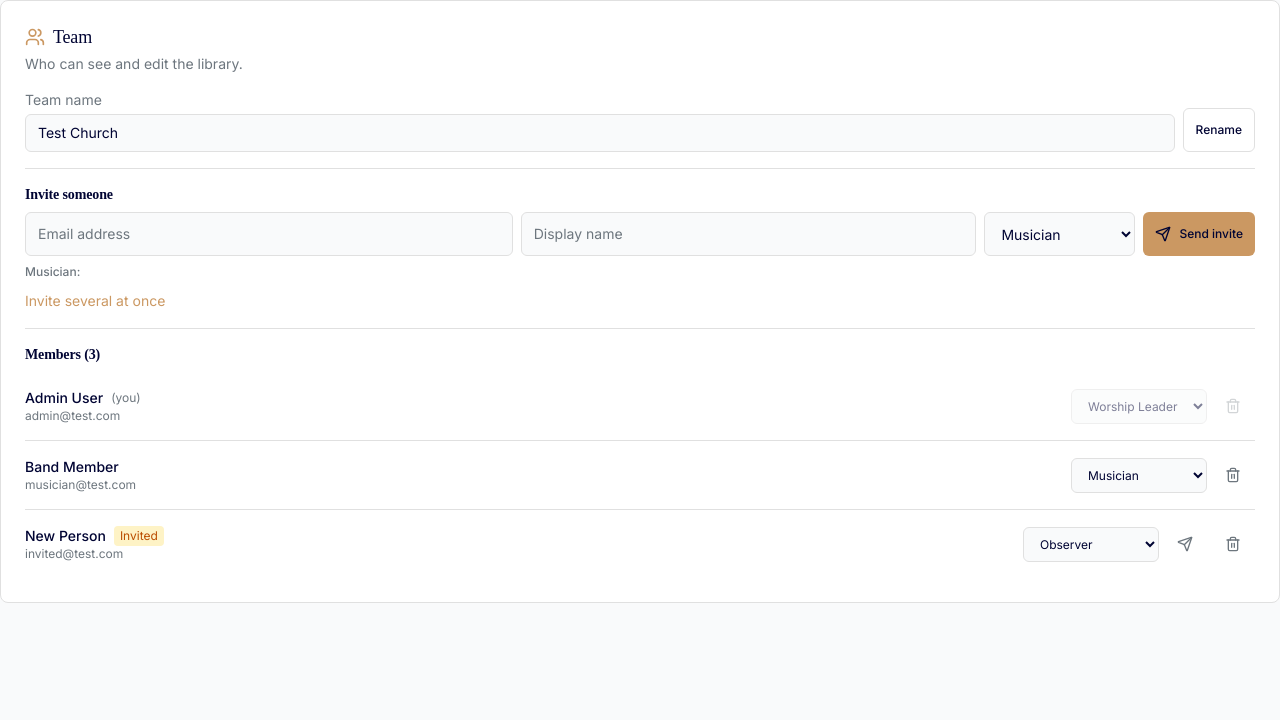
Test case: TeamSection › removes a member after confirmation
Expected: the text "Band Member" is shown, [25,457,119,477]
Expected: the button named "Remove Admin User from the team" is disabled, [1211,384,1255,428]
Click the button named "Remove Band Member from the team" at [1233, 475], box [1211,453,1255,497]
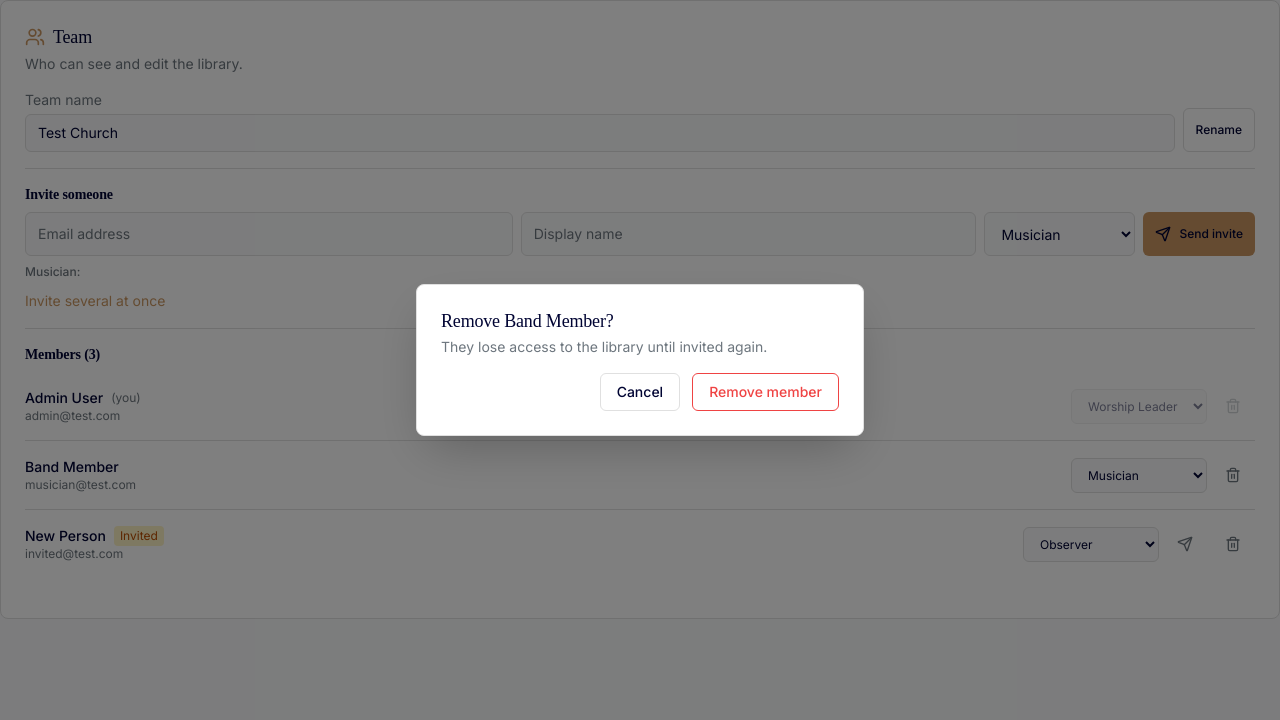
Click the button "Remove member" at [766, 392], box [692,373,839,411]
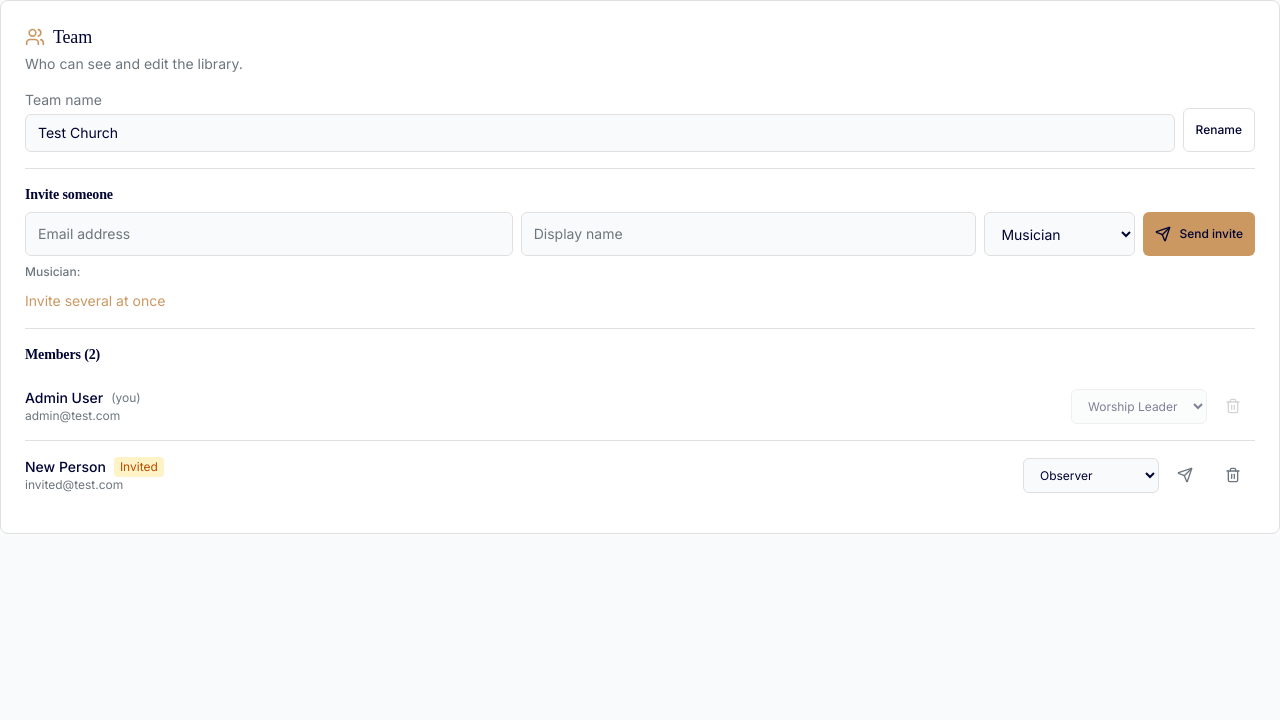
Expected: the text "Band Member" is gone
